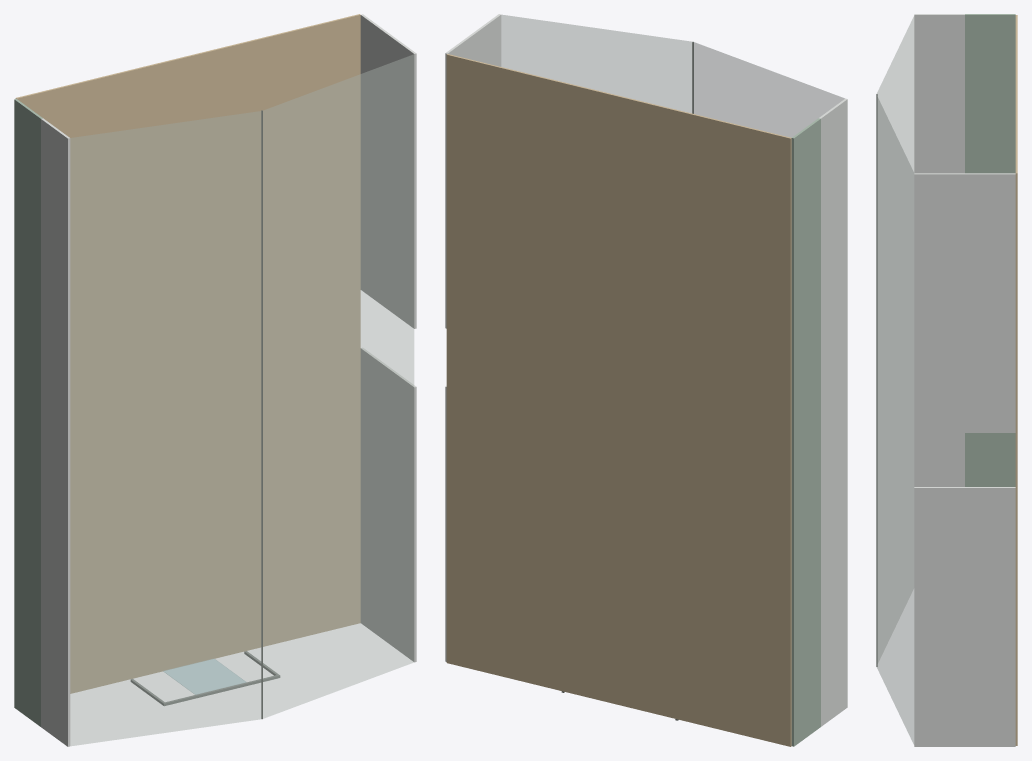
File: rainforest-hall-white-v1.glb
3 views of the same model, side by side, from view 1: azimuth 30°, elevation 25°; view 2: azimuth 150°, elevation 25°; view 3: azimuth 270°, elevation 25° (orthographic). The views are drawn at different scales.
Parts seen in each view (by area): view 1: sand_floor, roof_left, roof_right, left_upper_screen, left_lower_operable_placeholder, right_wall_back, right_wall_front, double_door_reference, ridge; view 2: sand_floor, left_lower_operable_placeholder, left_upper_screen, roof_right, roof_left, right_wall_back; view 3: right_wall_front, right_wall_back, roof_right, roof_left, left_lower_operable_placeholder, left_upper_screen, sand_floor, ridge.
Part boxes in pixels (bbox=[...]): sand_floor: bbox=[15, 14, 360, 693]; roof_left: bbox=[70, 111, 261, 746]; roof_right: bbox=[263, 54, 414, 718]; left_upper_screen: bbox=[41, 118, 70, 746]; left_lower_operable_placeholder: bbox=[14, 99, 42, 726]; right_wall_back: bbox=[360, 14, 416, 328]; right_wall_front: bbox=[360, 347, 416, 662]; double_door_reference: bbox=[163, 659, 245, 694]; ridge: bbox=[261, 110, 262, 719]; sand_floor: bbox=[446, 54, 791, 746]; left_lower_operable_placeholder: bbox=[791, 118, 820, 746]; left_upper_screen: bbox=[819, 98, 847, 726]; roof_right: bbox=[501, 14, 692, 113]; roof_left: bbox=[694, 42, 844, 137]; right_wall_back: bbox=[445, 14, 501, 328]; right_wall_front: bbox=[914, 487, 1015, 746]; right_wall_back: bbox=[914, 173, 1015, 432]; roof_right: bbox=[876, 95, 914, 744]; roof_left: bbox=[877, 16, 914, 661]; left_lower_operable_placeholder: bbox=[965, 14, 1015, 486]; left_upper_screen: bbox=[914, 14, 964, 486]; sand_floor: bbox=[1015, 15, 1017, 745]; ridge: bbox=[876, 94, 877, 666].
Size of the model in its own units: 15 by 25.1 by 5.58.
